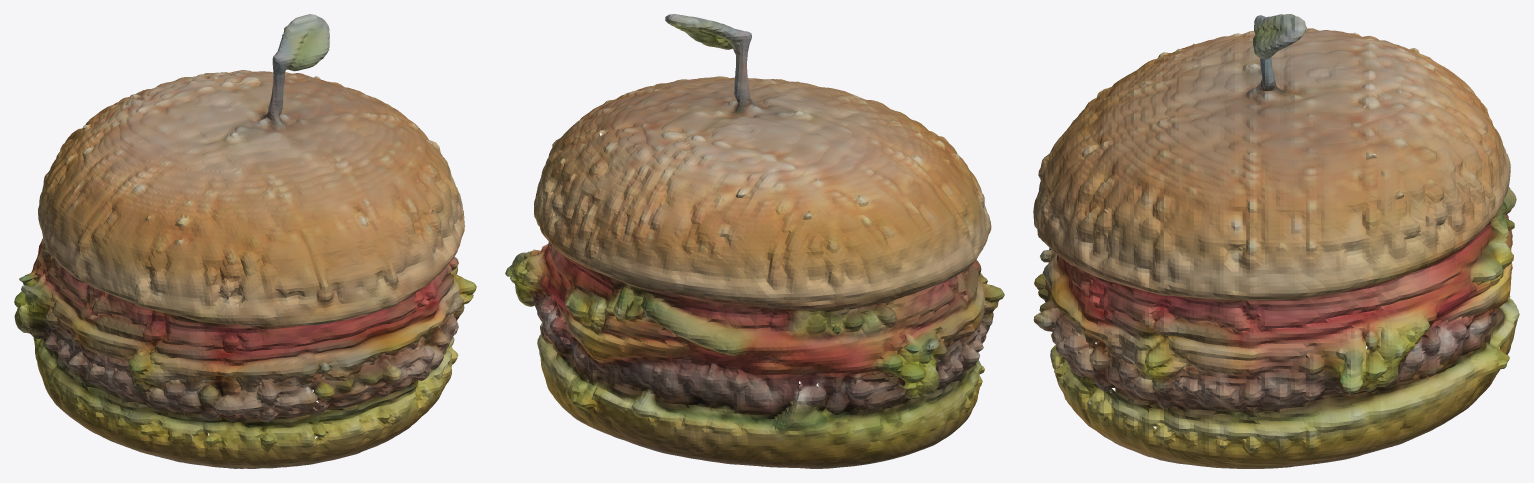
The model's file is hamburger.glb.
3 views of the same model, side by side, from view 1: azimuth 30°, elevation 25°; view 2: azimuth 150°, elevation 25°; view 3: azimuth 270°, elevation 25° (orthographic). The views are drawn at different scales.
Visible parts, largest first — view 1: world; view 2: world; view 3: world.
Part boxes in pixels (x1,y1,x2,y2): world: [14, 14, 476, 468]; world: [505, 14, 1004, 468]; world: [1033, 14, 1519, 468].
Bounding box in the file's own units: 0.9703 × 0.8304 × 0.8873.
